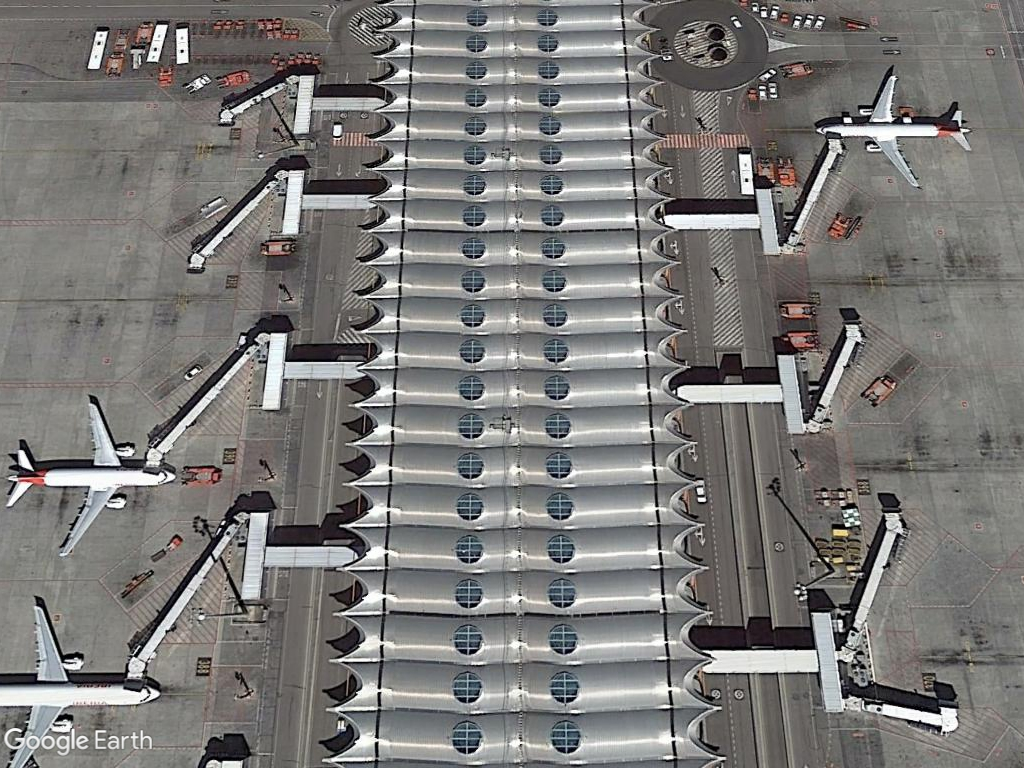airliner: (6, 395, 176, 561), (811, 67, 978, 189)
bus: (143, 16, 171, 67), (87, 24, 108, 73), (171, 23, 193, 67)
pushbacktruck: (861, 370, 900, 410), (179, 463, 223, 488), (256, 235, 298, 259), (778, 298, 819, 322), (780, 329, 823, 351), (774, 154, 801, 189), (826, 210, 853, 243), (215, 68, 253, 91), (181, 73, 214, 96), (776, 61, 817, 79)
